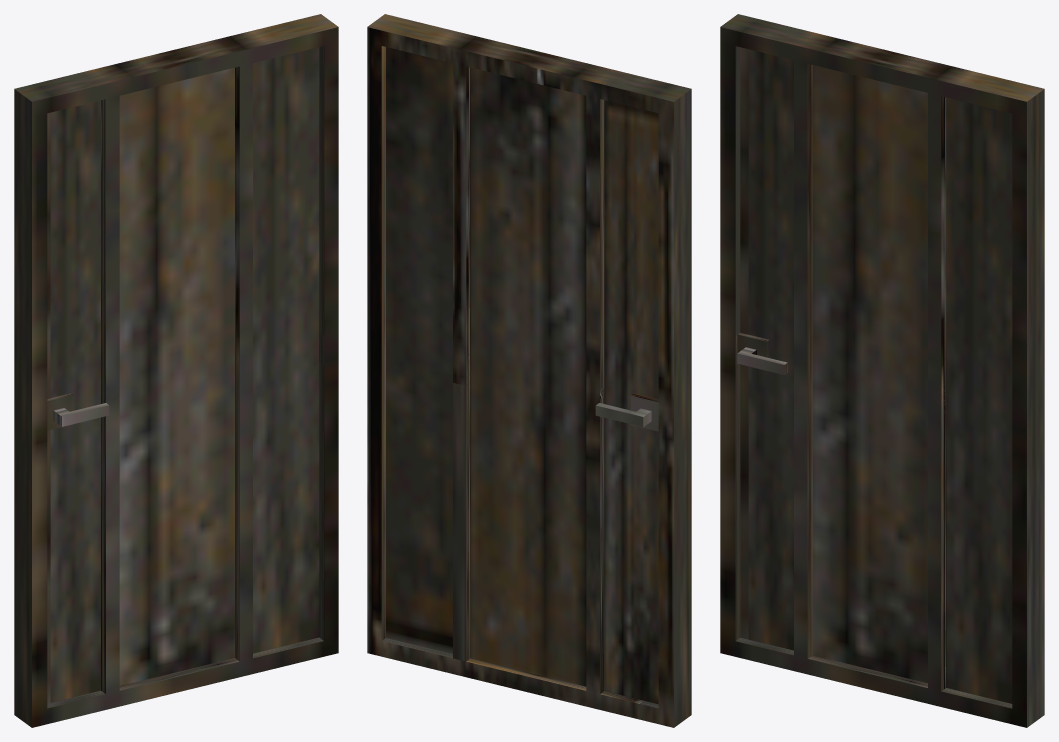
Rendered from door.fbx.
3 renders of one model, left to right at view 1: azimuth 30°, elevation 25°; view 2: azimuth 150°, elevation 25°; view 3: azimuth 330°, elevation 25°, orthographic.
Parts seen in each view (by area): view 1: Cube.013; view 2: Cube.013; view 3: Cube.013.
Boxes of the visible parts, x1=… form: Cube.013: x1=14, y1=14, x2=338, y2=727; Cube.013: x1=367, y1=14, x2=691, y2=727; Cube.013: x1=720, y1=14, x2=1044, y2=727.
Size of the model in its own units: 239 by 466 by 42.11.
Materials: 1 (1 with a texture image).
